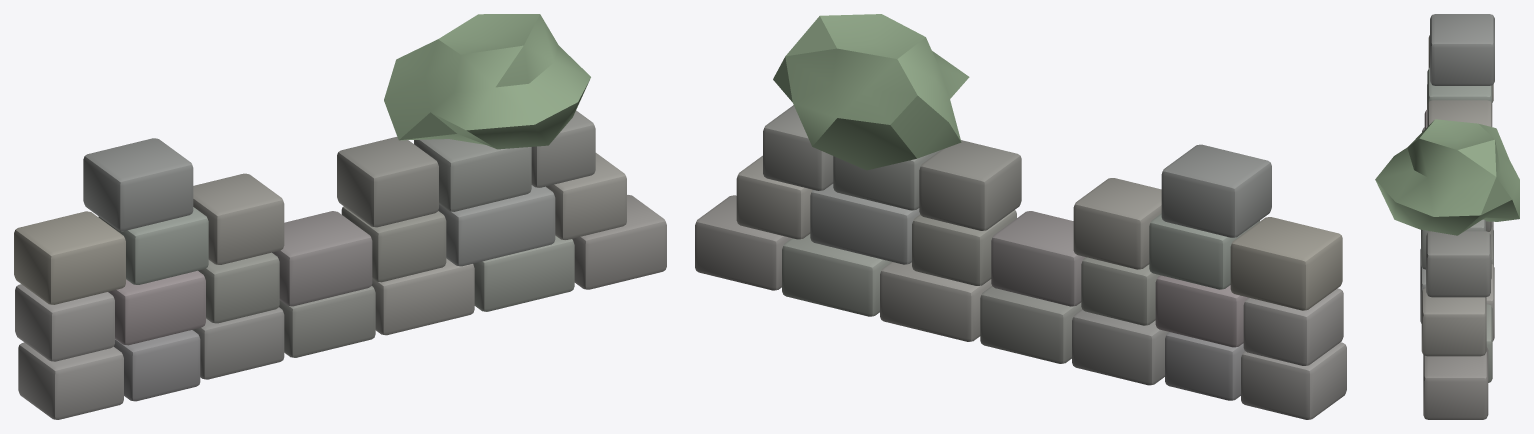
The model's file is ruin_wall.gltf.
3 views of the same model, side by side, from view 1: azimuth 30°, elevation 25°; view 2: azimuth 150°, elevation 25°; view 3: azimuth 270°, elevation 25° (orthographic). The views are drawn at different scales.
Visible parts, largest first — view 1: Body; view 2: Body; view 3: Body.
Part boxes in pixels (x1,y1,x2,y2): Body: (14, 14, 666, 419); Body: (695, 14, 1346, 419); Body: (1375, 14, 1519, 419).
Size of the model in its own units: 4.6 by 1.93 by 1.11.
